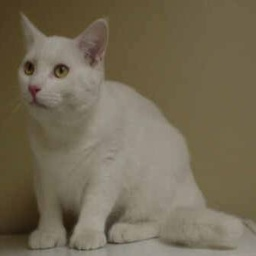cat: (10, 13, 239, 253)
